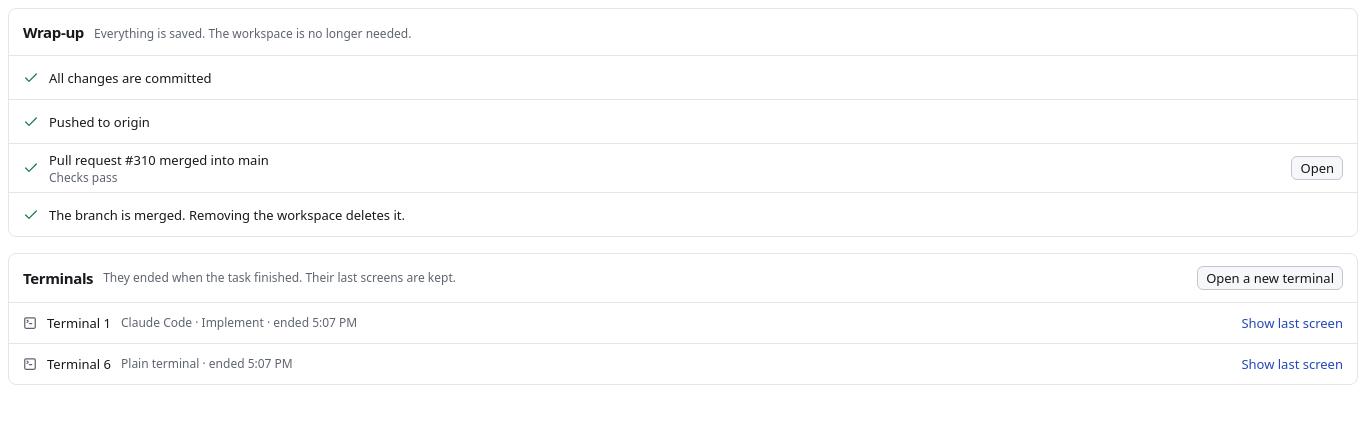
Scenario: WrapUp › shows the last screen of a shell that ended with the task
The width and height of the screenshot is (1366, 446).
Expected: the text "Terminal 1" is shown, [47,313,111,333]
Expected: the text "Claude Code · Implement · ended 5:07 PM" is shown, [121,314,357,331]
Click the button "Show last screen" in the row of "Claude Code · Implement · ended 5:07 PM" at (1292, 323), box [1241,313,1343,333]
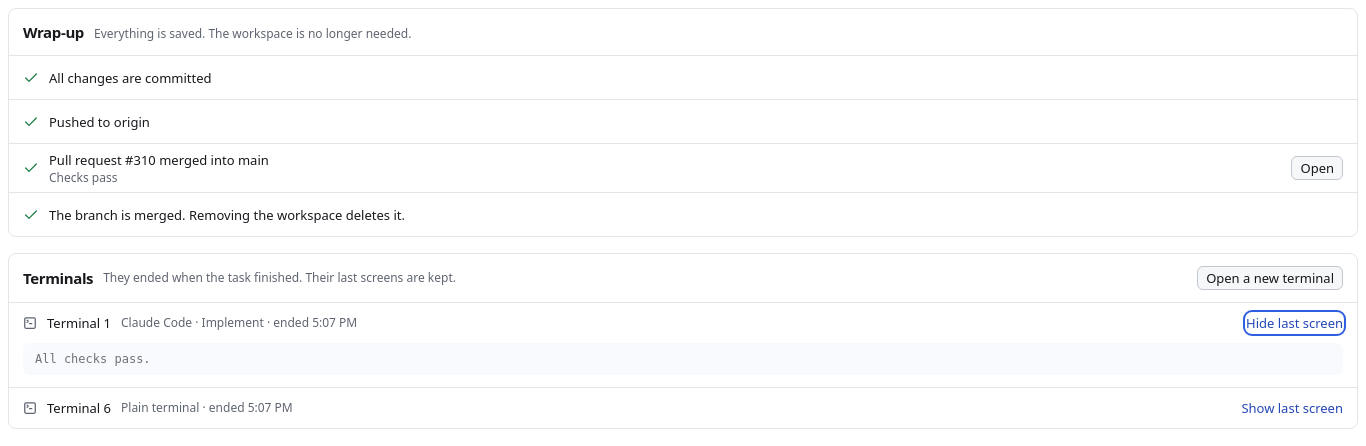
Now the text "All checks pass." is shown, box [23,343,1343,375]
Now the button named "Show last screen" is expanded
Click the button "Hide last screen" at (1295, 323), box [1246,313,1343,333]
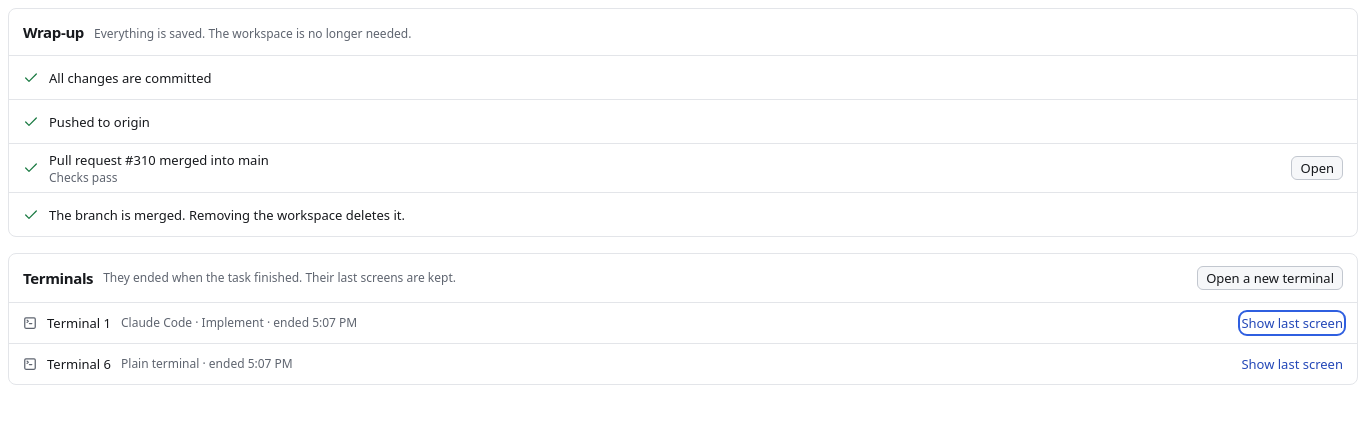
Now the text "All checks pass." is gone
